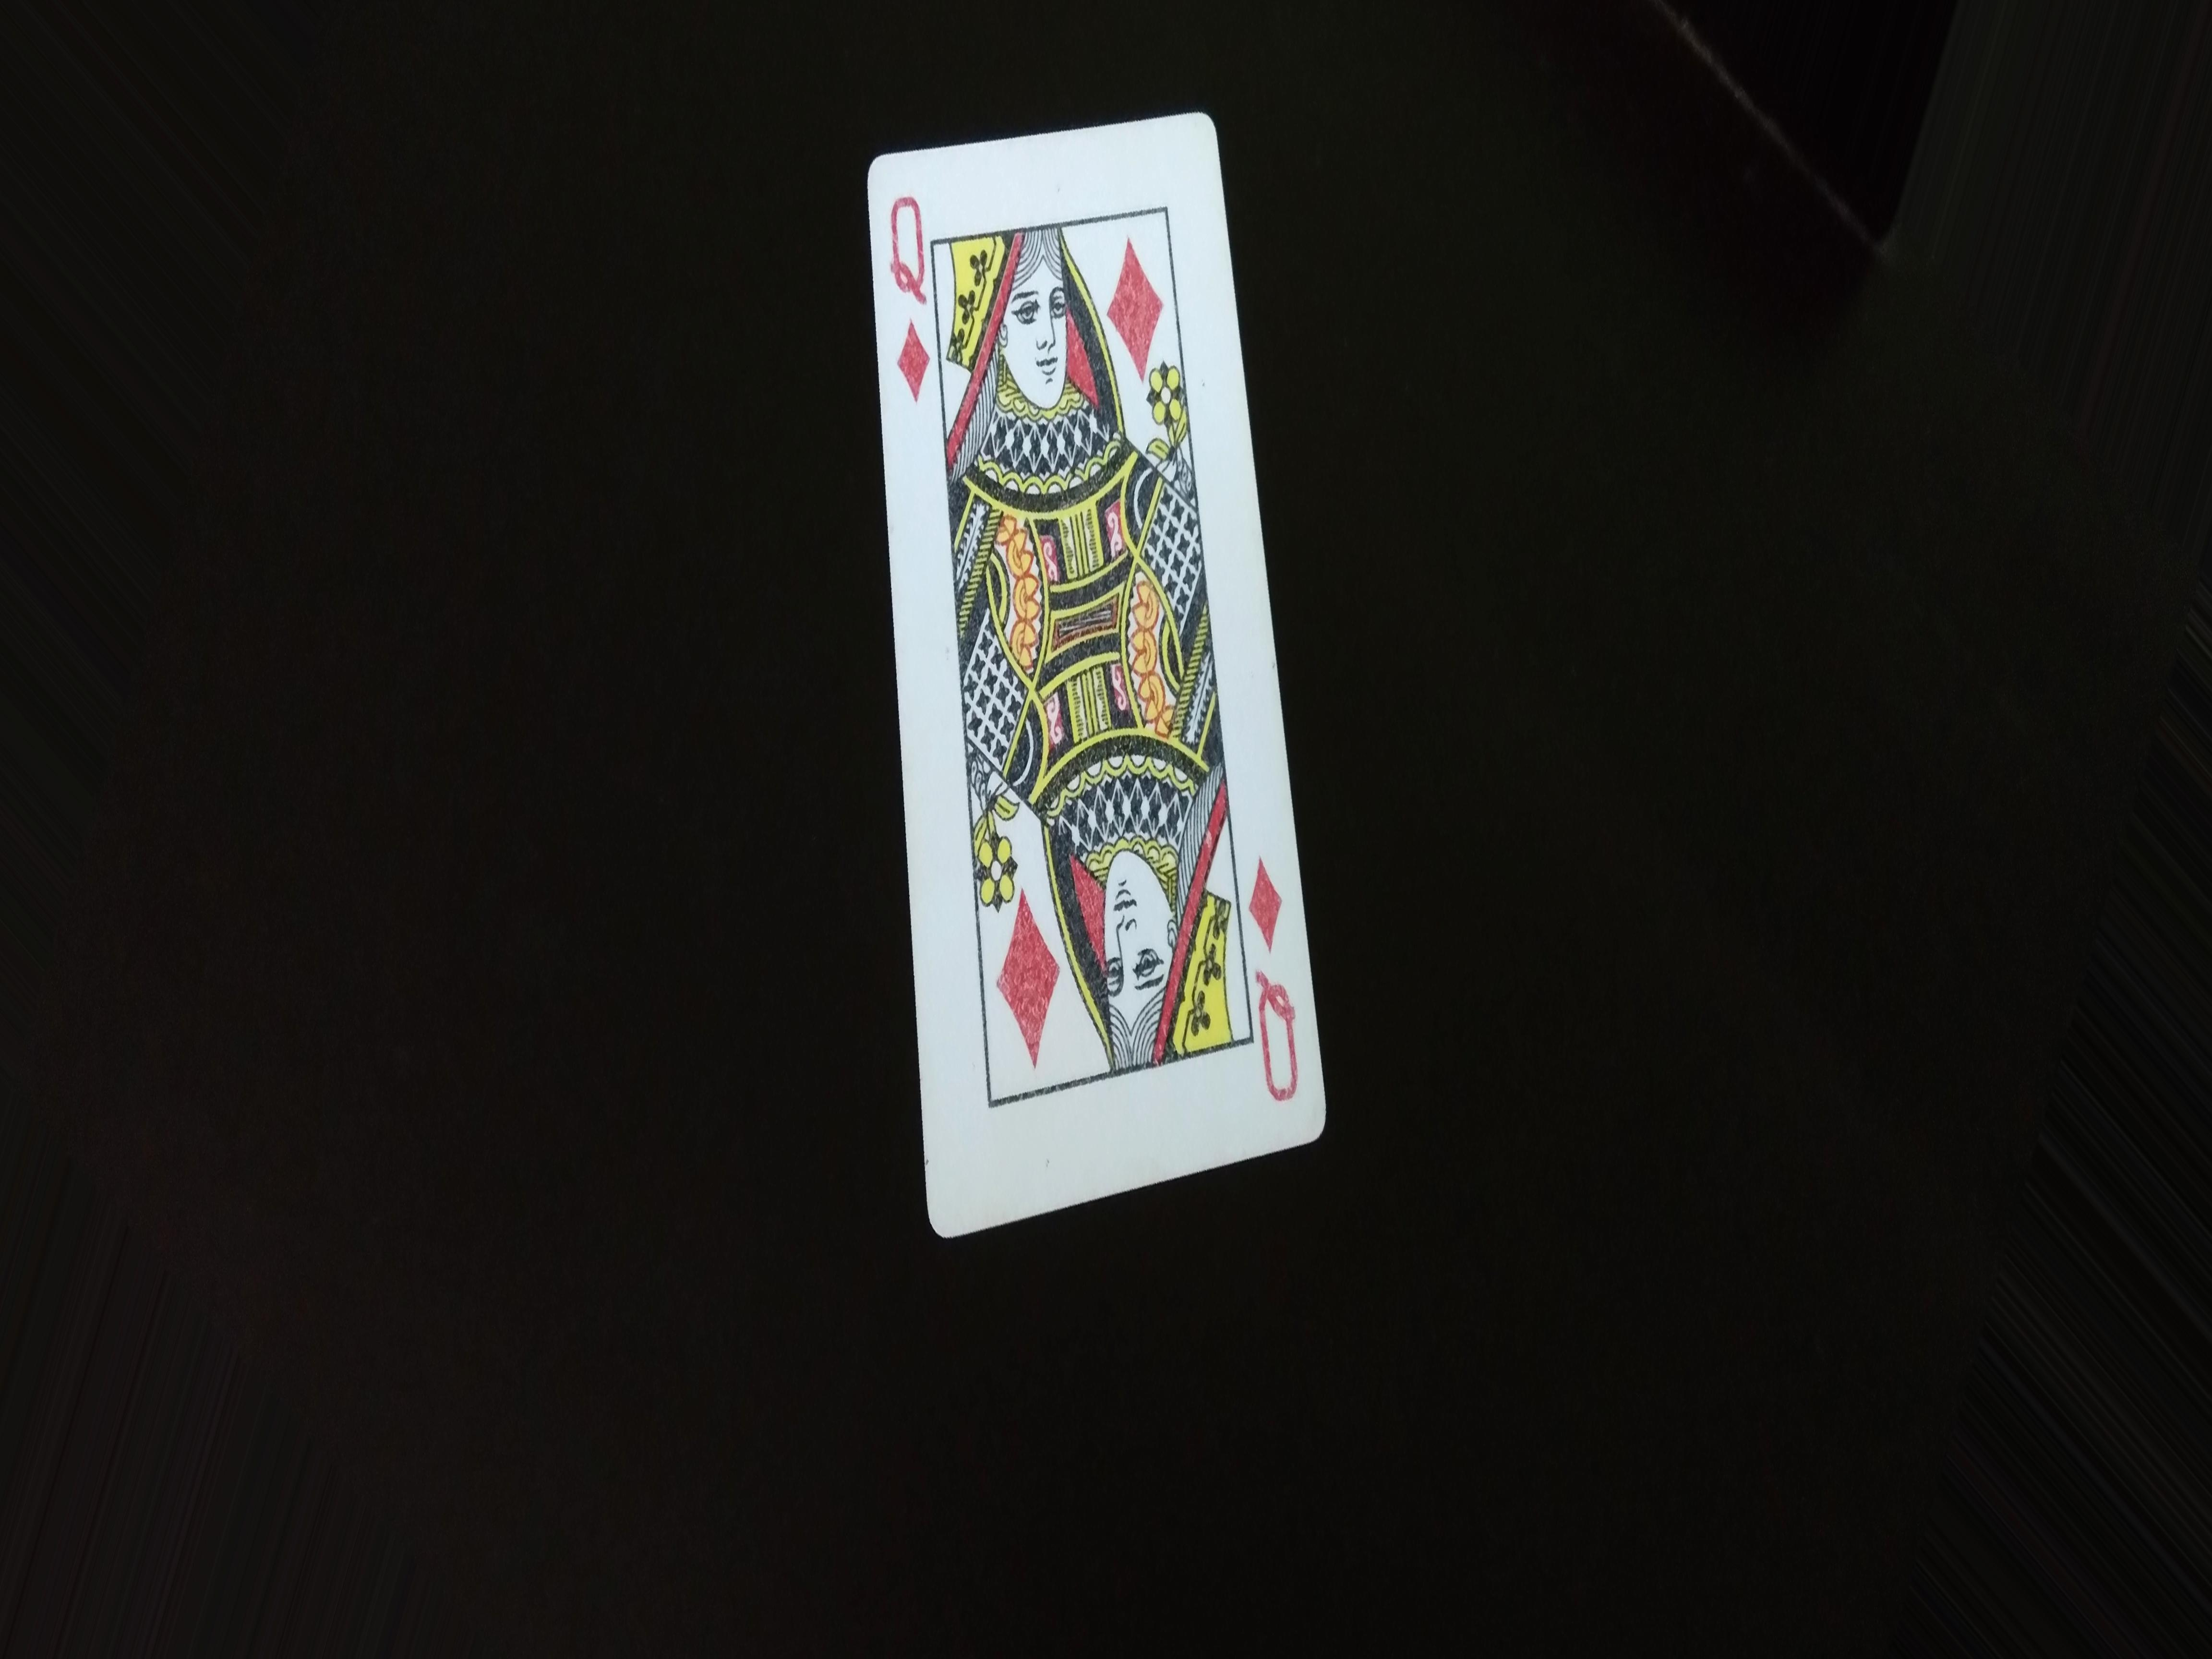QD: (871, 186, 937, 406)
